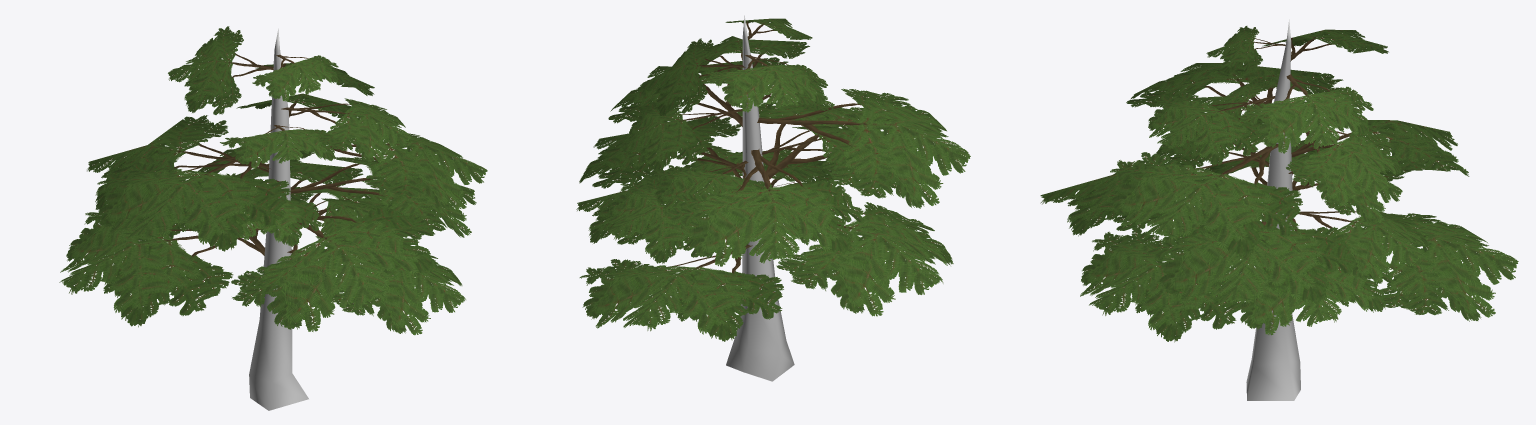
File: Cedar03.fbx
3 renders of one model, left to right at view 1: azimuth 30°, elevation 25°; view 2: azimuth 150°, elevation 25°; view 3: azimuth 270°, elevation 25°, orthographic. The views are drawn at different scales.
Visible parts, largest first — view 1: Cedar03; view 2: Cedar03; view 3: Cedar03.
Part boxes in pixels (bbox=[...]): Cedar03: bbox=[59, 26, 487, 410]; Cedar03: bbox=[576, 15, 970, 381]; Cedar03: bbox=[1040, 19, 1518, 400].
Bounding box in the file's own units: 1501 × 1277 × 1499.
